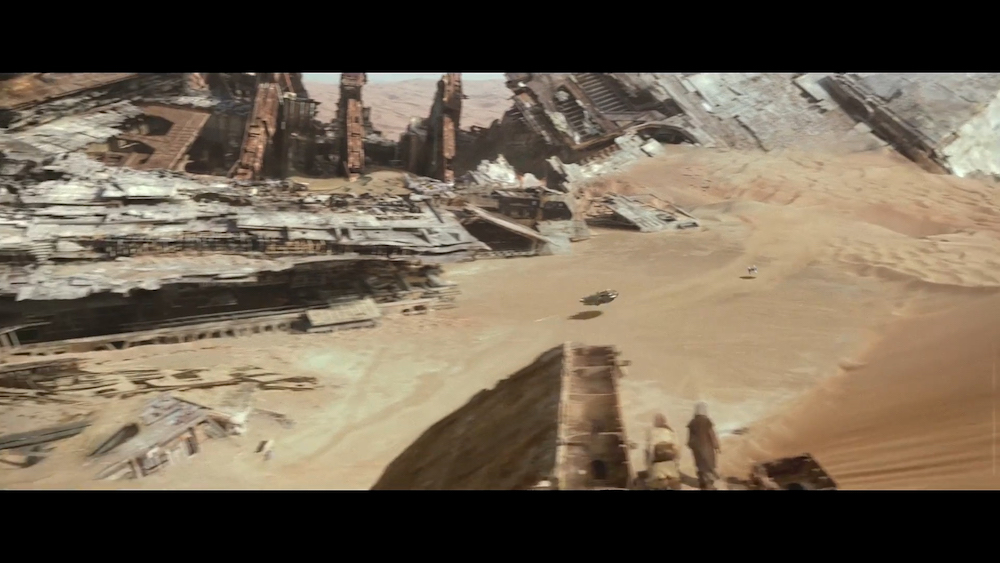Millennium Falcon: (580, 290, 620, 307)
Tie Fighter: (747, 265, 759, 276)
